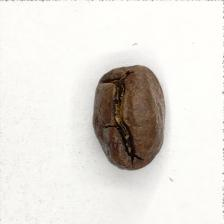NG: (103, 78, 151, 164)
